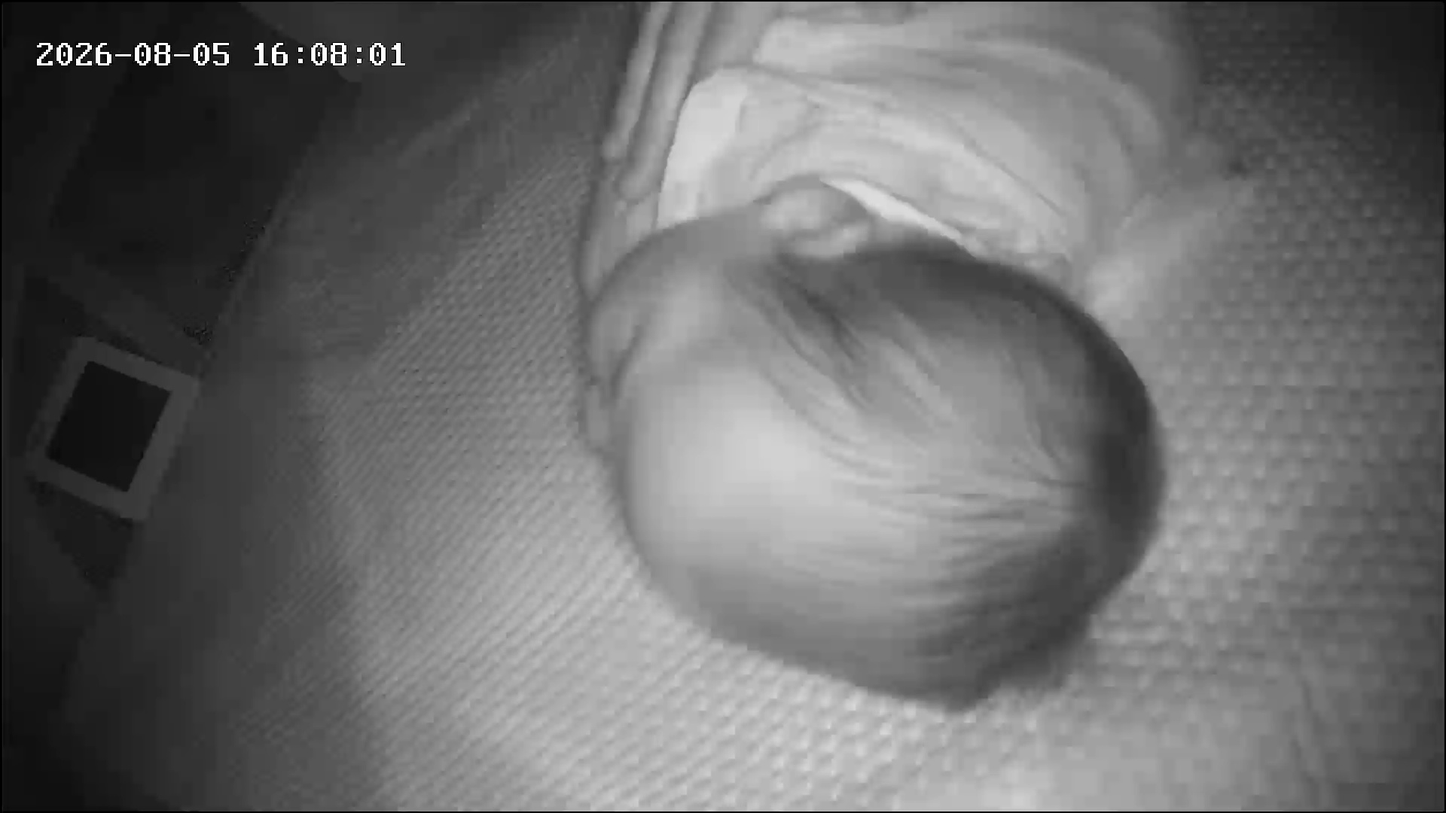baby: (517, 0, 1239, 716)
baby_face: (561, 227, 1164, 710)
